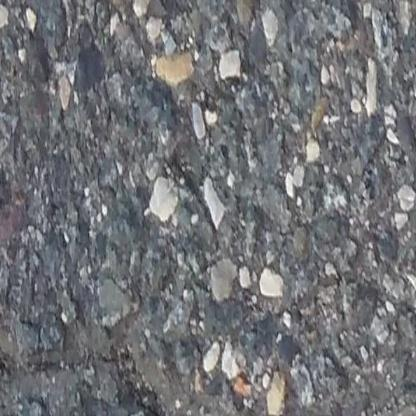Cracks: (0, 299, 330, 416)
